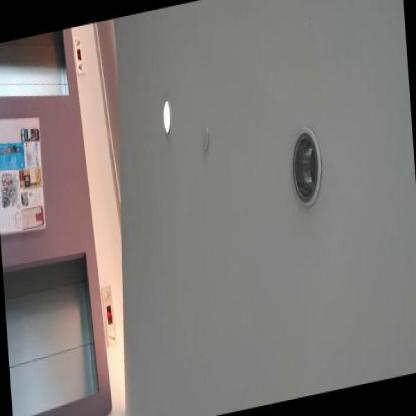light_off: (278, 104, 337, 227)
